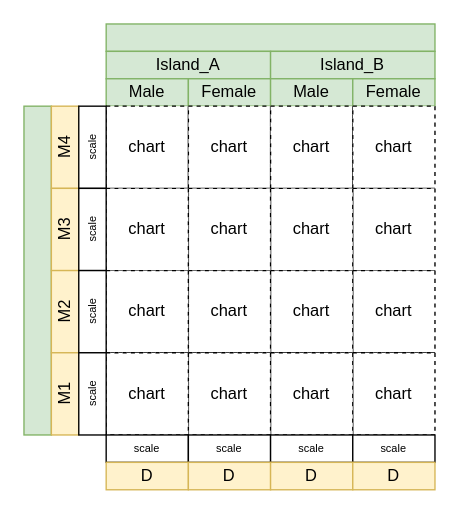
Image size: 459x514. Some labels were removed from this diagram. The shapes that lost their labels are listed below. From the top down, each one's centre as x and y in pixels, then its label:
pixel 270 37: Island / Sex
pixel 37 270: Species
